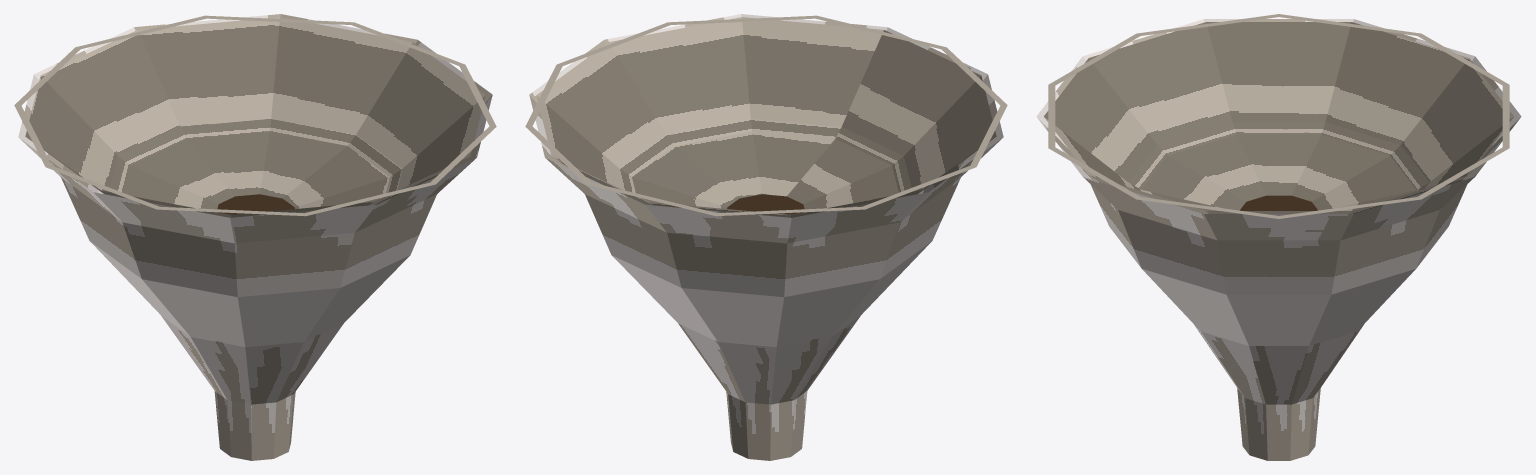
File: FLO-06_Copa_de_novicia.gltf
3 views of the same model, side by side, from view 1: azimuth 30°, elevation 25°; view 2: azimuth 150°, elevation 25°; view 3: azimuth 270°, elevation 25° (orthographic).
Parts seen in each view (by area): view 1: FLO-06_Copa_de_novicia-convcol; view 2: FLO-06_Copa_de_novicia-convcol; view 3: FLO-06_Copa_de_novicia-convcol.
Part boxes in pixels (x1=…): FLO-06_Copa_de_novicia-convcol: x1=14, y1=14, x2=496, y2=460; FLO-06_Copa_de_novicia-convcol: x1=525, y1=14, x2=1007, y2=460; FLO-06_Copa_de_novicia-convcol: x1=1036, y1=14, x2=1521, y2=460.
Size of the model in its own units: 0.6 by 0.45 by 0.6.
1 material, 1 textured.
